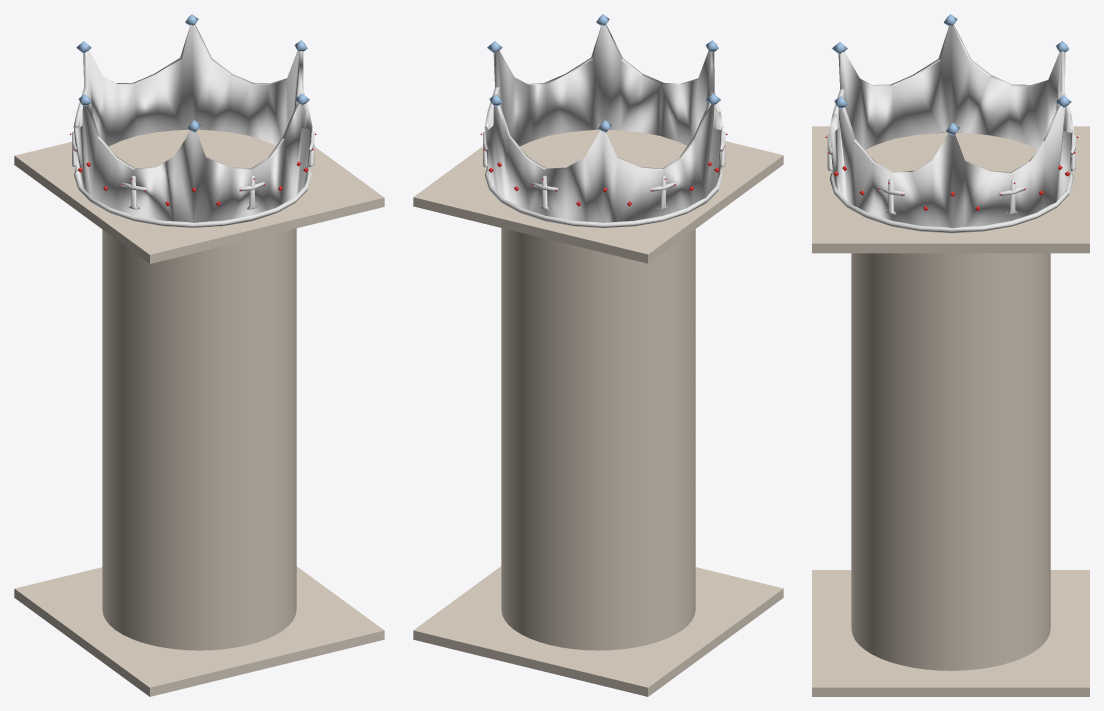
The model's file is Monument.fbx.
The picture shows the model from 3 angles, left to right: view 1: azimuth 30°, elevation 25°; view 2: azimuth 150°, elevation 25°; view 3: azimuth 270°, elevation 25°; orthographic projection. The views are drawn at different scales.
Visible parts, largest first — view 1: Column_box_top; view 2: Column_box_top; view 3: Column_box_top.
Part boxes in pixels (box(x1,y1,x2,y2)): Column_box_top: box(14, 14, 384, 696); Column_box_top: box(413, 14, 783, 696); Column_box_top: box(812, 14, 1089, 696).
Size of the model in its own units: 81.08 by 180 by 80.
